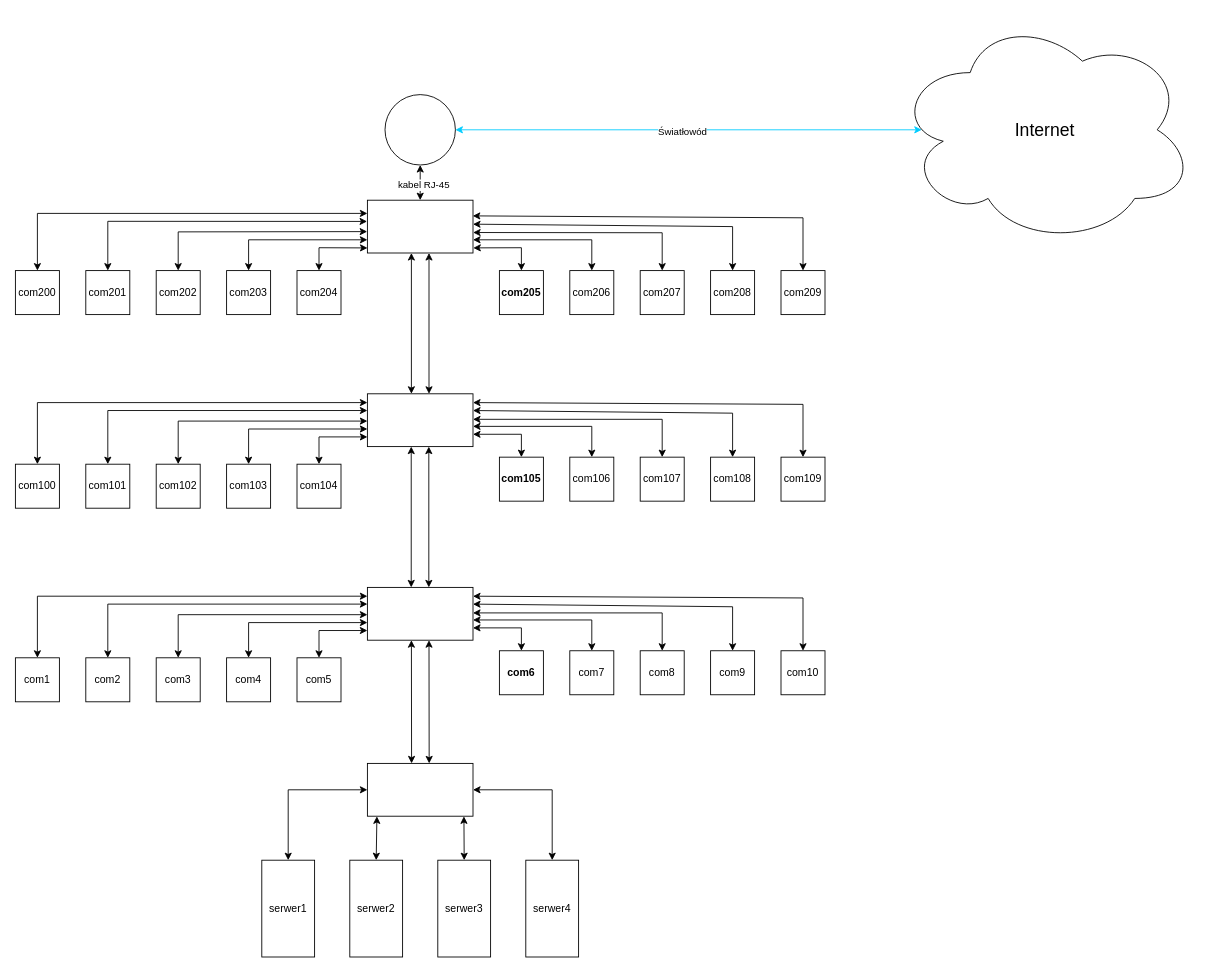
Some shapes in this 1210 by 972 pixel diagram are drawn without their labels. The centre of each missing label's shape, as x and y in pixels:
"ro_01" belongs at point 419,129.
"sw_p0_01" belongs at point 420,613.
"sw_p1_01" belongs at point 420,420.
"sw_p2_01" belongs at point 420,226.
"sw_pod_01" belongs at point 420,789.
